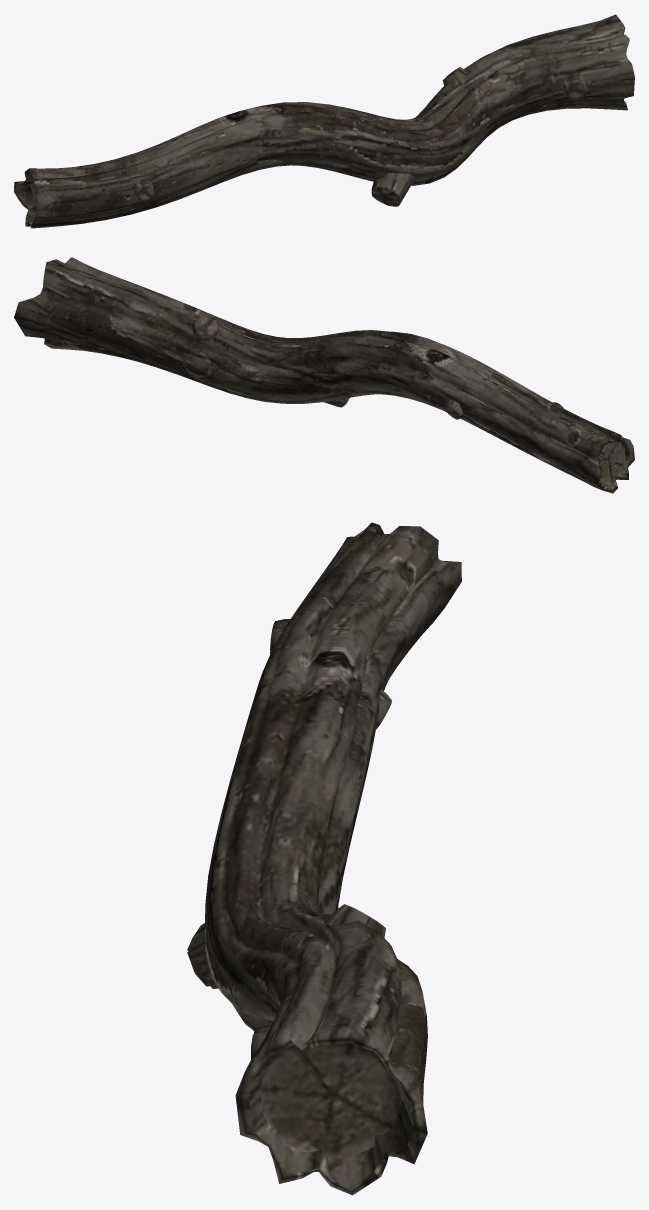
The model's file is Log3.fbx.
3 renders of one model, top to bottom at view 1: azimuth 30°, elevation 25°; view 2: azimuth 150°, elevation 25°; view 3: azimuth 270°, elevation 25°, orthographic. The views are drawn at different scales.
Parts seen in each view (by area): view 1: Log3_LOD0; view 2: Log3_LOD0; view 3: Log3_LOD0.
Boxes of the visible parts, x1=… form: Log3_LOD0: x1=14, y1=14, x2=634, y2=228; Log3_LOD0: x1=14, y1=257, x2=634, y2=493; Log3_LOD0: x1=187, y1=522, x2=461, y2=1195.
Size of what is drawn, in the model's own units: 3.72 by 0.7413 by 0.6229.
